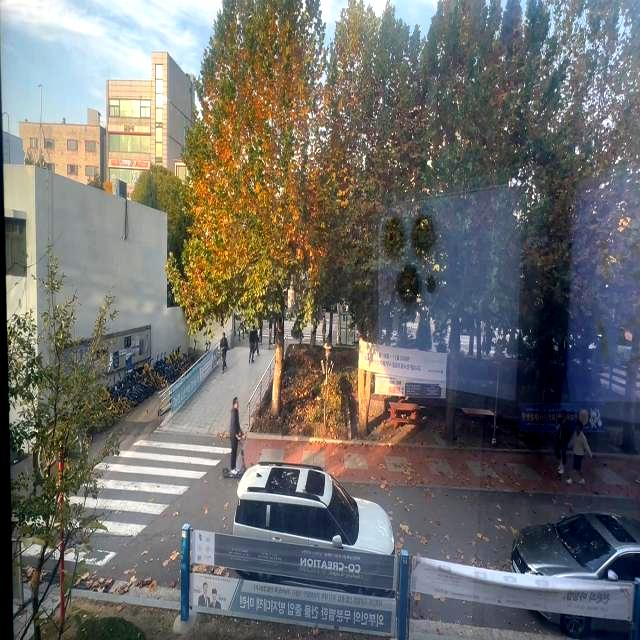bare_head: (229, 394, 242, 409)
human: (222, 390, 241, 474)
kickboard: (214, 458, 250, 484)
